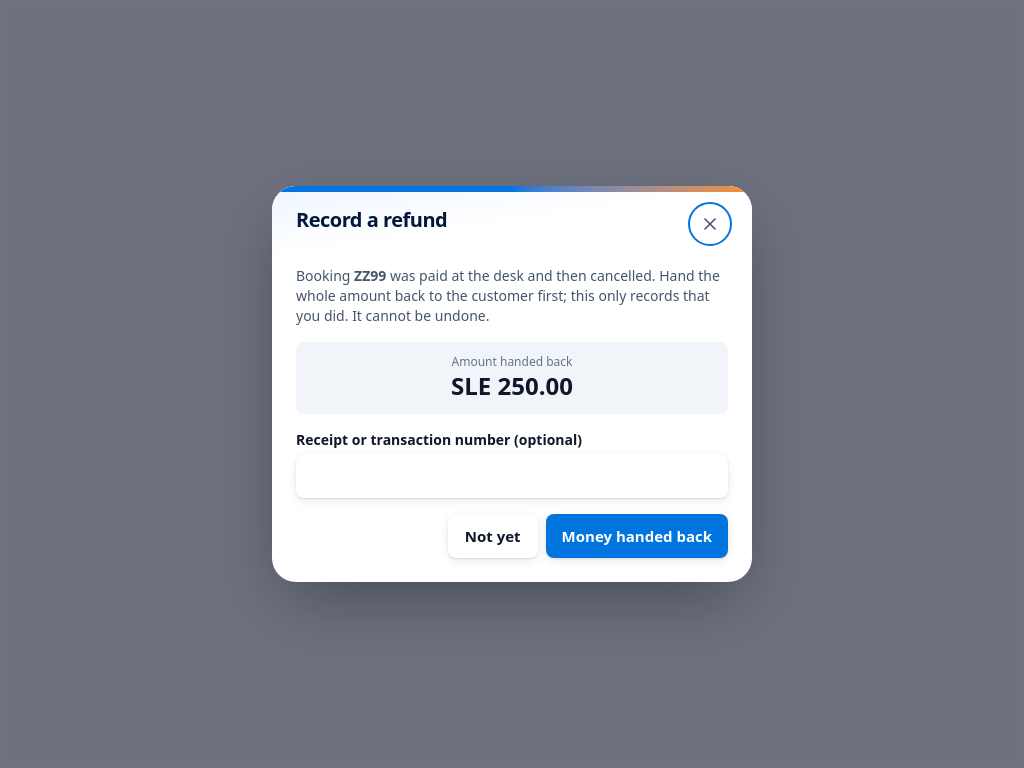
it: DeskRefundDialog › shows the refusal and does not report success
Click the button "Money handed back" at (637, 536), box 546,514 -> 728,558
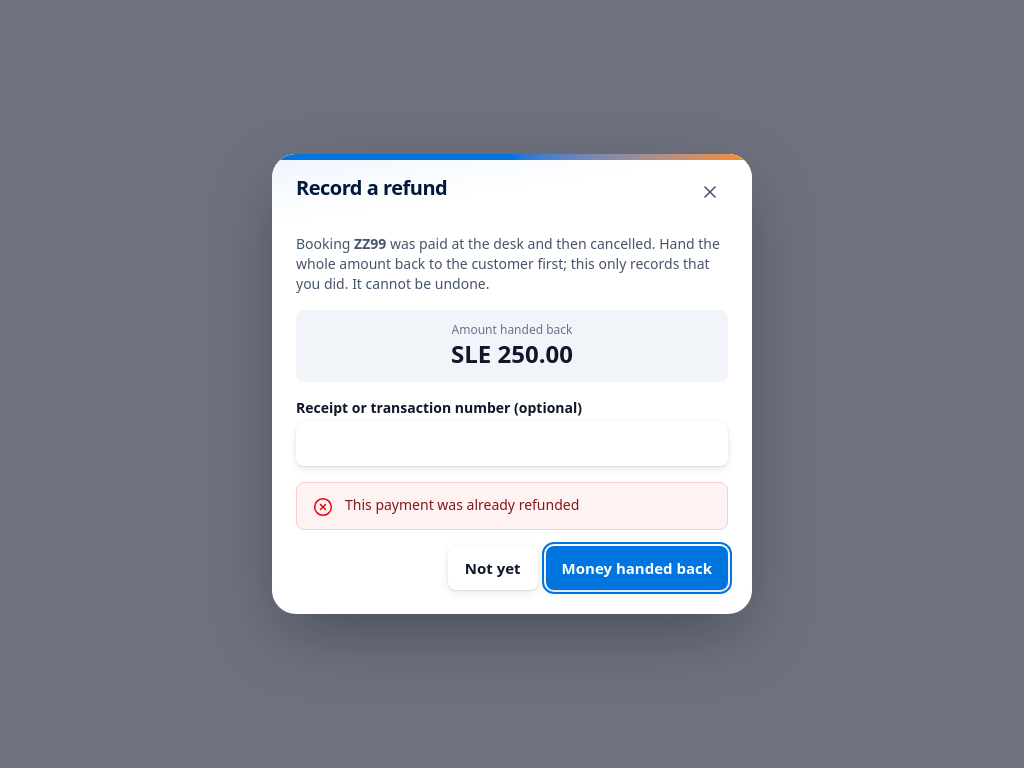
Expected: the text "This payment was already refunded" is shown, 345,495 -> 579,515
